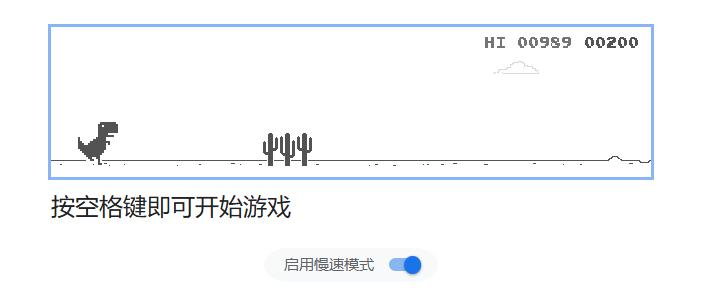cactus: (261, 132, 313, 167)
dino: (75, 121, 119, 166)
